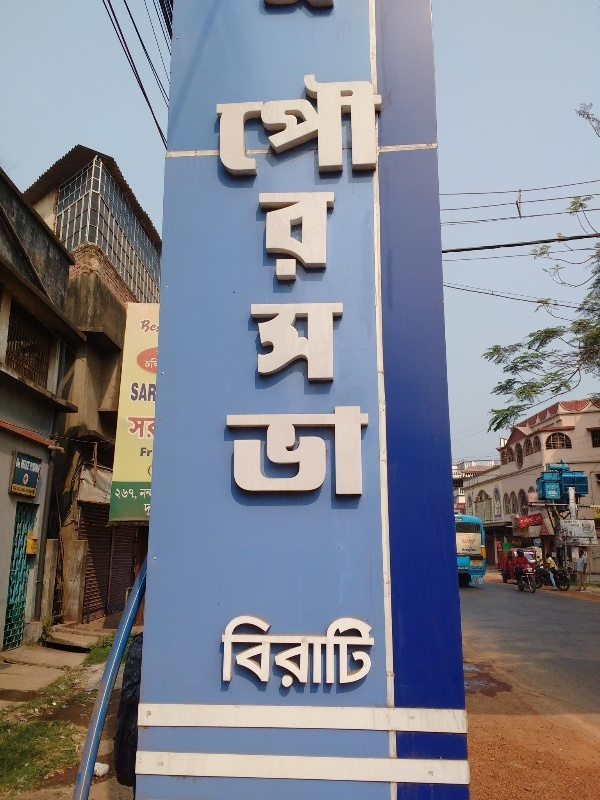text: (225, 60, 240, 526), (241, 60, 256, 526), (257, 60, 272, 526), (273, 60, 288, 526), (289, 60, 304, 526), (305, 60, 320, 526), (321, 60, 336, 526), (337, 60, 352, 526), (353, 60, 368, 526), (369, 60, 384, 526), (385, 60, 396, 526), (214, 60, 224, 526), (145, 315, 160, 524), (131, 315, 144, 524), (225, 613, 240, 701), (241, 613, 256, 701), (257, 613, 272, 701), (273, 613, 288, 701), (289, 613, 304, 701), (305, 613, 320, 701), (321, 613, 336, 701), (337, 613, 352, 701), (353, 613, 368, 701), (161, 315, 165, 524), (215, 613, 224, 701), (369, 613, 378, 701), (17, 453, 32, 497), (33, 453, 44, 497), (273, 1, 288, 7), (289, 1, 304, 7), (305, 1, 320, 7), (321, 1, 336, 7), (337, 1, 352, 7), (259, 1, 272, 7), (15, 453, 16, 497), (353, 1, 356, 7)
